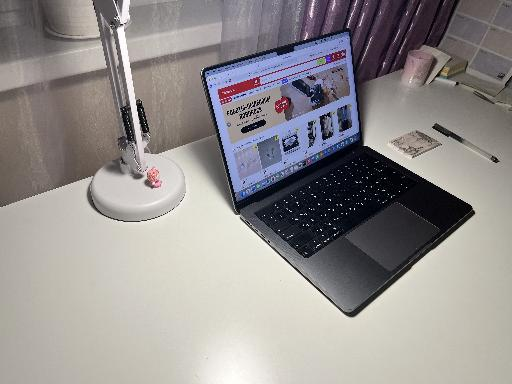aliexpress: (208, 46, 360, 196)
